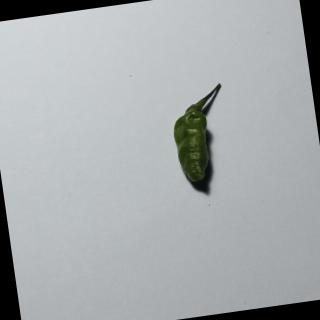Cabai Hijau: (160, 76, 245, 200)
